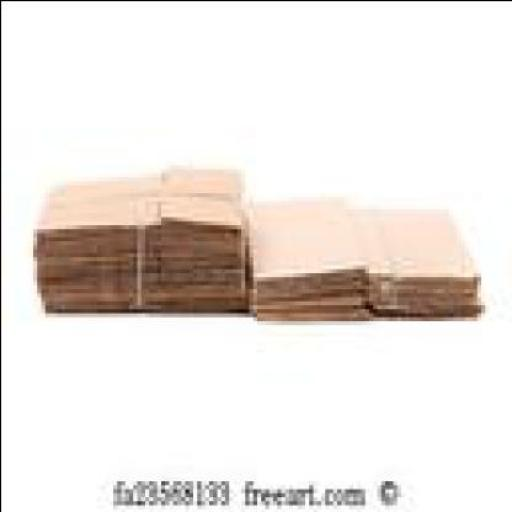cardboard: (28, 164, 244, 308), (244, 196, 476, 316), (240, 200, 471, 276), (28, 164, 240, 224)
